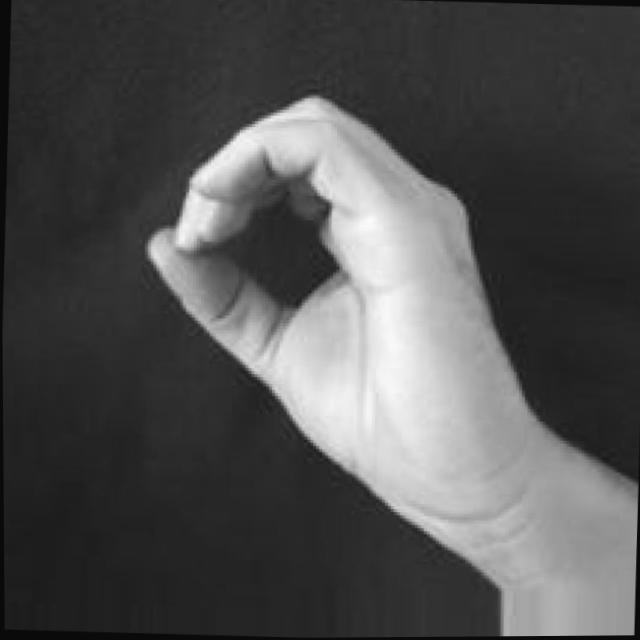O: (132, 80, 527, 547)
